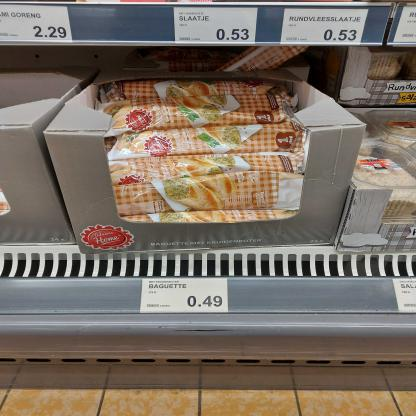prtg: (281, 10, 370, 46), (174, 8, 258, 45), (141, 279, 229, 314), (1, 5, 74, 44), (394, 7, 415, 43), (393, 280, 415, 312)
